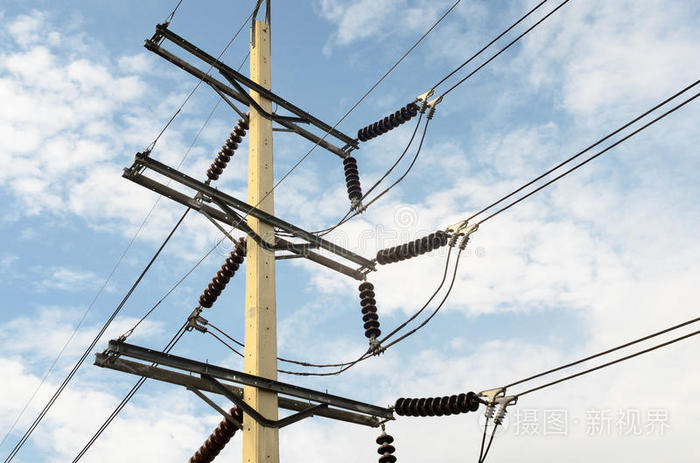insulator: (200, 239, 244, 308), (188, 408, 241, 462), (206, 119, 246, 178), (378, 231, 447, 265), (395, 390, 479, 417), (358, 102, 415, 141), (357, 282, 383, 336), (342, 155, 365, 200), (374, 433, 396, 463)
